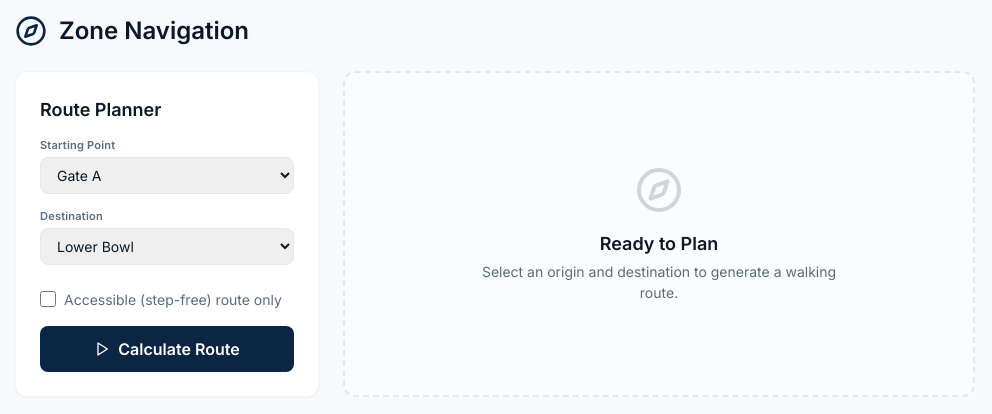
it: NavigationPanel › passes axe accessibility check with results displayed
Click the button "Calculate Route" at x=167, y=349, box [40, 326, 294, 372]
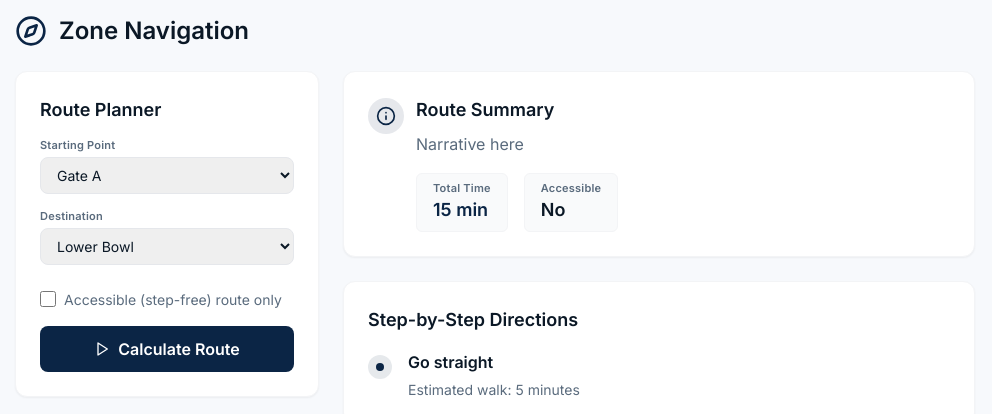
Expected: the text "Narrative here" is shown, [416, 134, 524, 154]
